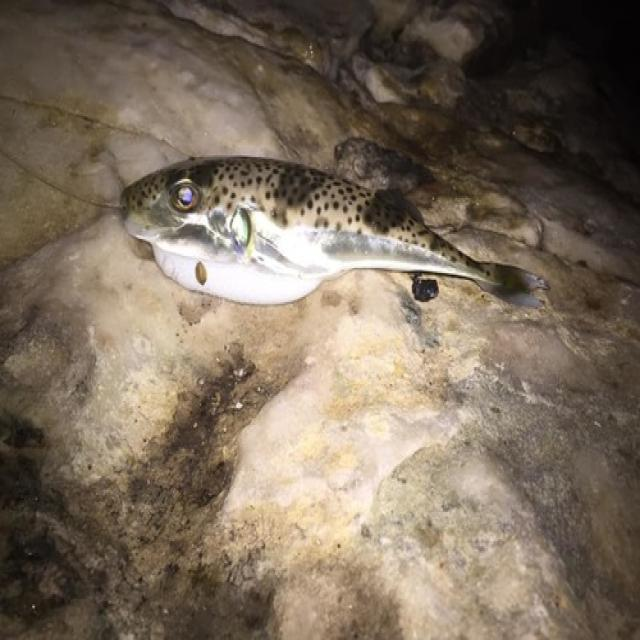Balik: (122, 158, 547, 307)
